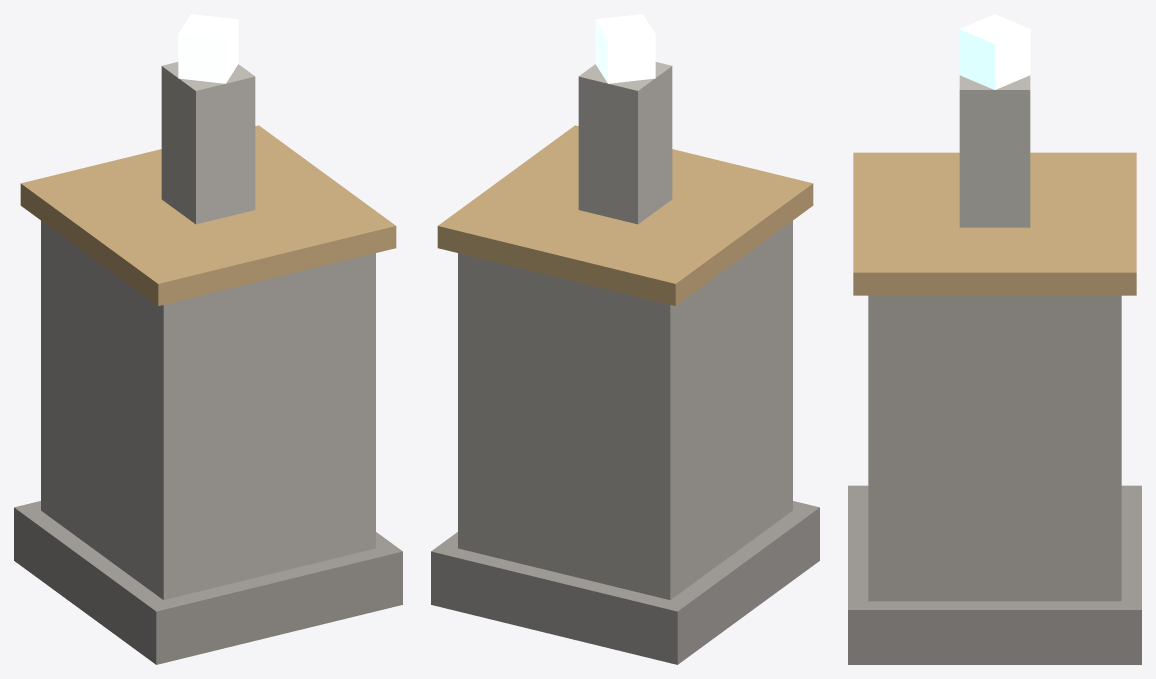
3 renders of one model, left to right at view 1: azimuth 30°, elevation 25°; view 2: azimuth 150°, elevation 25°; view 3: azimuth 270°, elevation 25°, orthographic. The views are drawn at different scales.
Visible parts, largest first — view 1: body; view 2: body; view 3: body.
Part boxes in pixels (<box>): body: <box>14,14,402,664</box>; body: <box>431,14,819,664</box>; body: <box>848,14,1141,664</box>.
Bounding box in the file's own units: 5.8 × 12.5 × 5.8.
